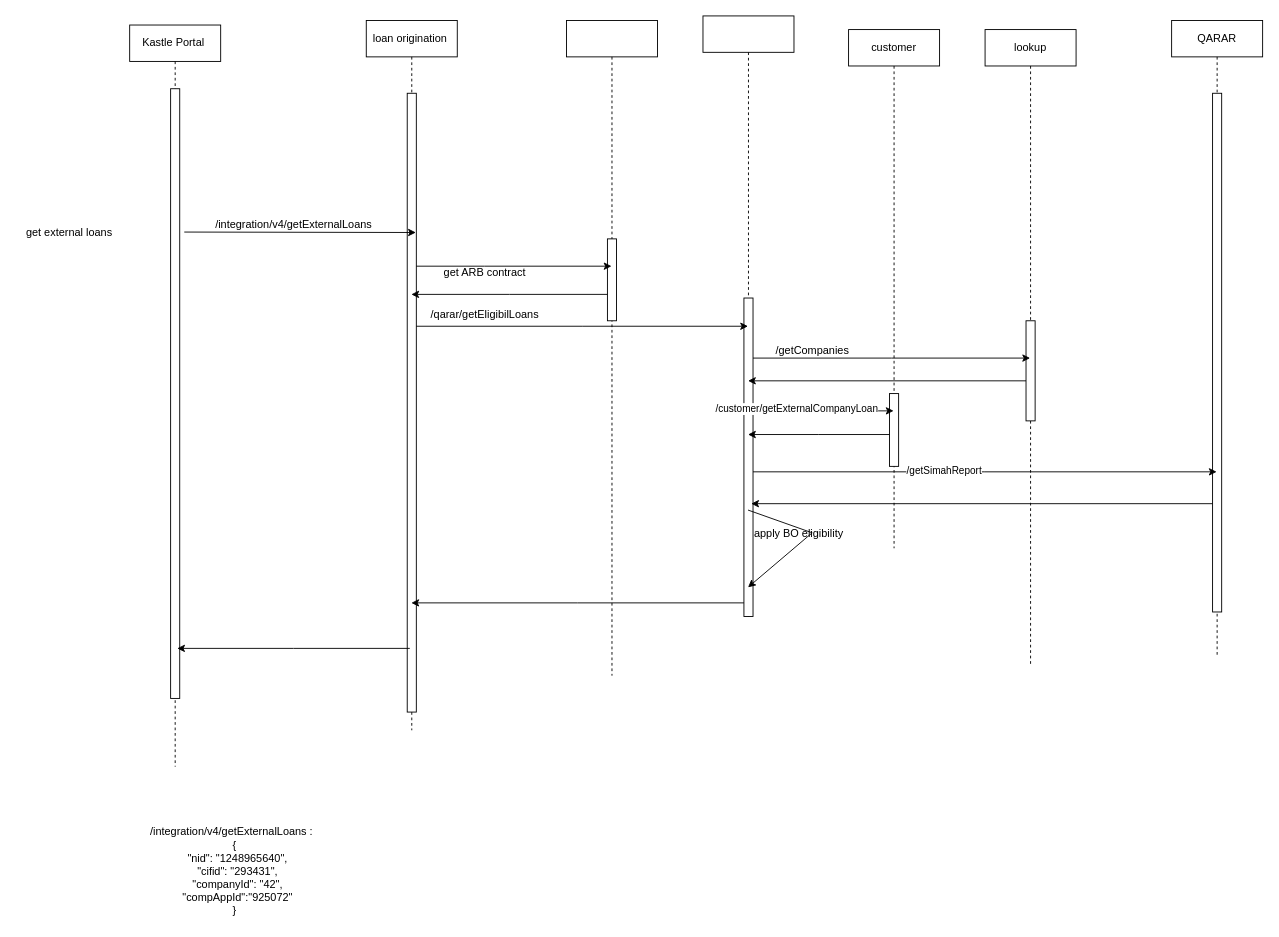
Some shapes in this 1279 by 937 pixel diagram are drawn without their labels. Here are the shapes that lost their labels. From the top down, the centre of each, then its label:
point 748,316: qara MS
point 611,348: ARB
